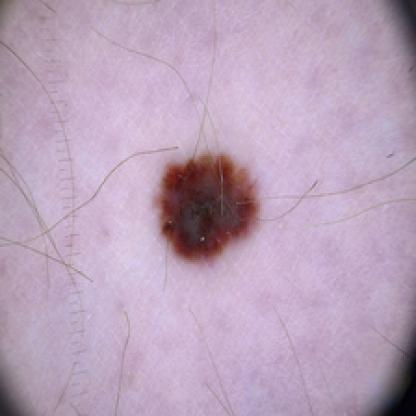Skin_Cancer-Malignant: (153, 152, 264, 266)
